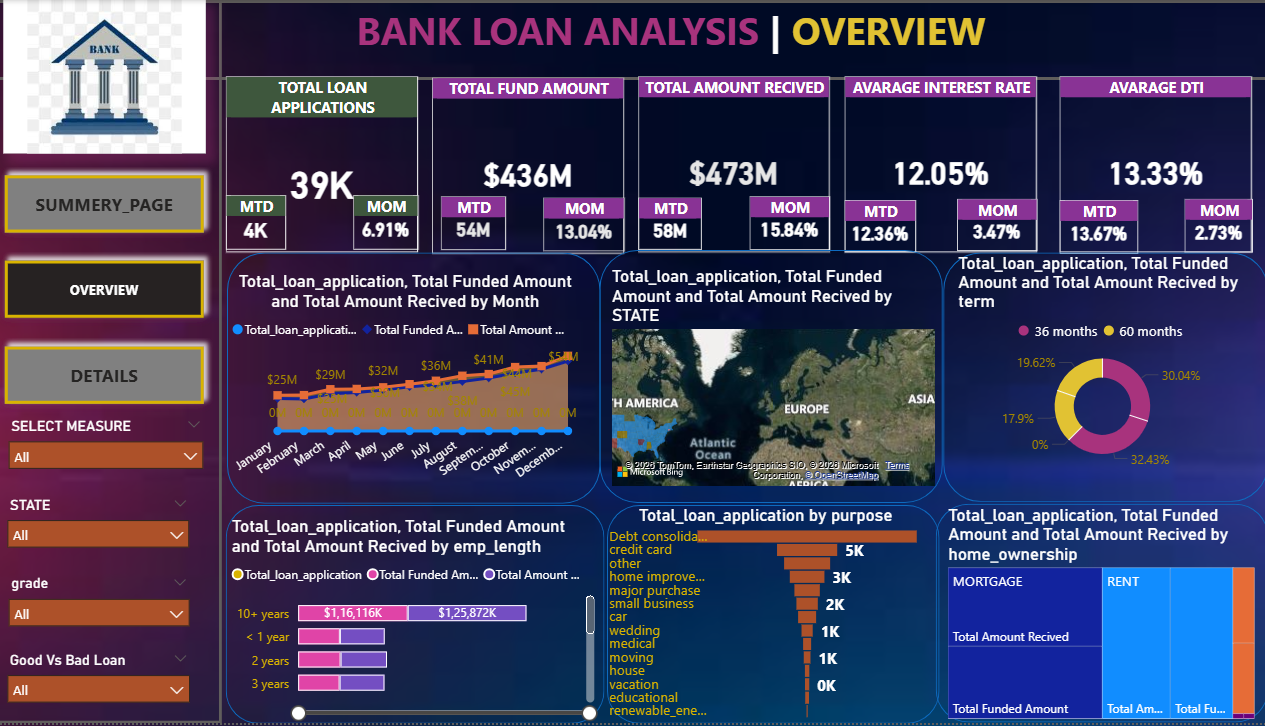

Layout of this report page (visuals, bound fields, positions):
{"tool":"powerbi","page":{"name":"OVERVIEW","canvas":[1280,720],"ordinal":1},"visuals":[{"type":"actionButton","box":[0,0,1280,79.6],"z":0},{"type":"actionButton","box":[7.5,0,231.4,720.3],"z":1000},{"type":"textbox","box":[250,0,870.8,63.4],"z":2000},{"type":"card","title":"TOTAL LOAN APPLICATIONS","fields":{"Values":["measure.Total_loan_application"]},"box":[242.6,75.9,191.6,175.4],"z":3000},{"type":"card","title":"MTD","fields":{"Values":["measure.MTD_loan_app"]},"box":[242.6,194.1,59.7,54.7],"z":4000},{"type":"card","title":"MOM","fields":{"Values":["measure.MOM_Loan_application"]},"box":[369.5,194.1,64.7,54.7],"z":5000},{"type":"card","title":"TOTAL FUND AMOUNT","fields":{"Values":["measure.Total Funded Amount"]},"box":[447.8,77.1,191.6,175.4],"z":6000},{"type":"card","title":"MTD","fields":{"Values":["measure.MTD_funded amount"]},"box":[456.5,195.3,64.7,53.5],"z":7000},{"type":"card","title":"MOM","fields":{"Values":["measure.MOM_Total_FUND_AMOUNT"]},"box":[558.5,196.5,80.9,53.5],"z":8000},{"type":"card","title":"TOTAL AMOUNT RECIVED","fields":{"Values":["measure.Total Amount Recived"]},"box":[653.1,75.9,190.3,175.4],"z":9000},{"type":"card","title":"MTD","fields":{"Values":["measure.MTD_total_amount recived"]},"box":[653.1,196.5,63.4,52.2],"z":10000},{"type":"card","title":"MOM","fields":{"Values":["measure.MOM total amount recived"]},"box":[763.8,195.3,79.6,53.5],"z":11000},{"type":"card","title":"AVARAGE INTEREST RATE","fields":{"Values":["measure.Avarage_interest_rate"]},"box":[858.3,75.9,191.6,175.4],"z":12000},{"type":"card","title":"MTD","fields":{"Values":["measure.MTD_avarage_int_rate"]},"box":[858.3,199,70.9,52.2],"z":13000},{"type":"card","title":"MOM","fields":{"Values":["measure.MOM_avg_int_rate"]},"box":[970.3,197.8,79.6,52.2],"z":14000},{"type":"card","title":"AVARAGE DTI","fields":{"Values":["measure.Avarage_DTI"]},"box":[1072.3,75.9,191.6,175.4],"z":15000},{"type":"card","title":"MTD","fields":{"Values":["measure.MTD _AVARAGE_DTI"]},"box":[1072.3,199,78.4,53.5],"z":16000},{"type":"card","title":"MOM","fields":{"Values":["measure.MOM AVG DTI"]},"box":[1196.7,198.3,68.3,53.3],"z":17000},{"type":"shape","box":[243.3,251.7,371.7,250],"z":18000},{"type":"shape","box":[615,248.3,341.7,251.7],"z":19000},{"type":"slicer","fields":{"Values":["financial_loan.address_state"]},"box":[14.9,488.9,201.5,78.4],"z":20000},{"type":"slicer","fields":{"Values":["financial_loan.grade"]},"box":[16.7,566.7,200,76.7],"z":21000},{"type":"slicer","fields":{"Values":["financial_loan.Good Vs Bad Loan"]},"box":[15,643.3,201.7,76.7],"z":22000},{"type":"slicer","fields":{"Values":["SELECT MEASURE.SELECT MEASURE"]},"box":[16.2,410.5,214,78.4],"z":23000},{"type":"areaChart","fields":{"Y":["measure.Total_loan_application","measure.Total Funded Amount","measure.Total Amount Recived"],"Category":["financial_loan.issue_date.Variation.Date Hierarchy.Month"]},"box":[243.3,270,355,218.3],"z":24000},{"type":"filledMap","fields":{"Category":["financial_loan.address_state"]},"box":[622,265,330.9,223.9],"z":25000},{"type":"shape","box":[956.7,251.7,323.3,248.3],"z":26000},{"type":"donutChart","fields":{"Y":["measure.Total_loan_application","measure.Total Funded Amount","measure.Total Amount Recived"],"Category":["financial_loan.term"]},"box":[966.6,251.3,297.3,218.9],"z":27000},{"type":"shape","box":[242.6,502.6,376.9,217.7],"z":28000},{"type":"shape","box":[622,502.6,330.9,217.7],"z":29000},{"type":"barChart","fields":{"Y":["measure.Total_loan_application","measure.Total Funded Amount","measure.Total Amount Recived"],"Category":["financial_loan.emp_length"]},"box":[243.8,513.8,370.7,206.5],"z":30000},{"type":"funnel","fields":{"Y":["measure.Total_loan_application"],"Category":["financial_loan.purpose"]},"box":[619.5,502.6,320.9,217.7],"z":31000},{"type":"shape","box":[949.1,501.3,330.9,217.7],"z":32000},{"type":"treemap","fields":{"Values":["measure.Total_loan_application","measure.Total Funded Amount","measure.Total Amount Recived"],"Group":["financial_loan.home_ownership"]},"box":[956.6,502.6,314.7,217.7],"z":33000},{"type":"pageNavigator","box":[13.7,165.4,216.4,245.1],"z":34000},{"type":"image","box":[21.1,0,201.5,153],"z":35000}]}

Visuals, with their boxes in screenshot pixels (x1, y1, x2, y2), scaled from the page's 1280x720 canvas onto the 1265x726 screenshot:
actionButton: [left=0, top=0, right=1264, bottom=80]
actionButton: [left=7, top=0, right=236, bottom=725]
textbox: [left=247, top=0, right=1108, bottom=64]
"TOTAL LOAN APPLICATIONS" card: [left=240, top=77, right=429, bottom=253]
"MTD" card: [left=240, top=196, right=299, bottom=251]
"MOM" card: [left=365, top=196, right=429, bottom=251]
"TOTAL FUND AMOUNT" card: [left=443, top=78, right=632, bottom=255]
"MTD" card: [left=451, top=197, right=515, bottom=251]
"MOM" card: [left=552, top=198, right=632, bottom=252]
"TOTAL AMOUNT RECIVED" card: [left=645, top=77, right=834, bottom=253]
"MTD" card: [left=645, top=198, right=708, bottom=251]
"MOM" card: [left=755, top=197, right=834, bottom=251]
"AVARAGE INTEREST RATE" card: [left=848, top=77, right=1038, bottom=253]
"MTD" card: [left=848, top=201, right=918, bottom=253]
"MOM" card: [left=959, top=199, right=1038, bottom=252]
"AVARAGE DTI" card: [left=1060, top=77, right=1249, bottom=253]
"MTD" card: [left=1060, top=201, right=1137, bottom=255]
"MOM" card: [left=1183, top=200, right=1250, bottom=254]
shape: [left=240, top=254, right=608, bottom=506]
shape: [left=608, top=250, right=945, bottom=504]
slicer - financial_loan.address_state: [left=15, top=493, right=214, bottom=572]
slicer - financial_loan.grade: [left=17, top=571, right=214, bottom=649]
slicer - financial_loan.Good Vs Bad Loan: [left=15, top=649, right=214, bottom=725]
slicer - SELECT MEASURE.SELECT MEASURE: [left=16, top=414, right=228, bottom=493]
areaChart - measure.Total_loan_application x measure.Total Funded Amount: [left=240, top=272, right=591, bottom=492]
filledMap - financial_loan.address_state: [left=615, top=267, right=942, bottom=493]
shape: [left=945, top=254, right=1264, bottom=504]
donutChart - measure.Total_loan_application x measure.Total Funded Amount: [left=955, top=253, right=1249, bottom=474]
shape: [left=240, top=507, right=612, bottom=725]
shape: [left=615, top=507, right=942, bottom=725]
barChart - measure.Total_loan_application x measure.Total Funded Amount: [left=241, top=518, right=607, bottom=725]
funnel - measure.Total_loan_application x financial_loan.purpose: [left=612, top=507, right=929, bottom=725]
shape: [left=938, top=505, right=1264, bottom=725]
treemap - measure.Total_loan_application x measure.Total Funded Amount: [left=945, top=507, right=1256, bottom=725]
pageNavigator: [left=14, top=167, right=227, bottom=414]
image: [left=21, top=0, right=220, bottom=154]
